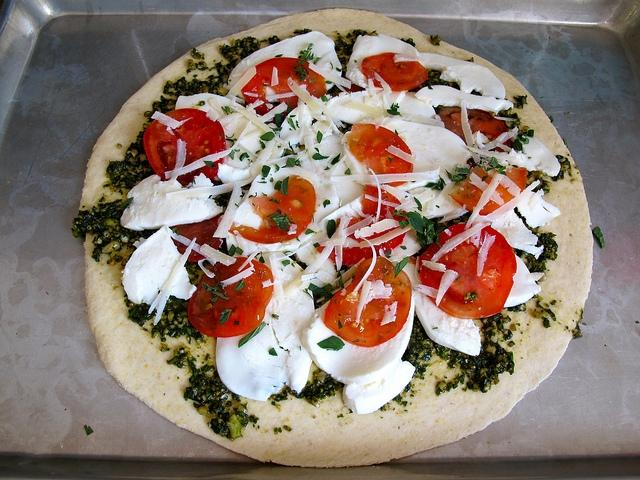tomato: (419, 223, 516, 319), (324, 256, 412, 347), (317, 184, 407, 266), (187, 257, 275, 338), (143, 109, 226, 186), (228, 175, 316, 244), (241, 57, 327, 116), (346, 123, 413, 187), (432, 105, 508, 145), (362, 52, 428, 92), (169, 213, 223, 261)
